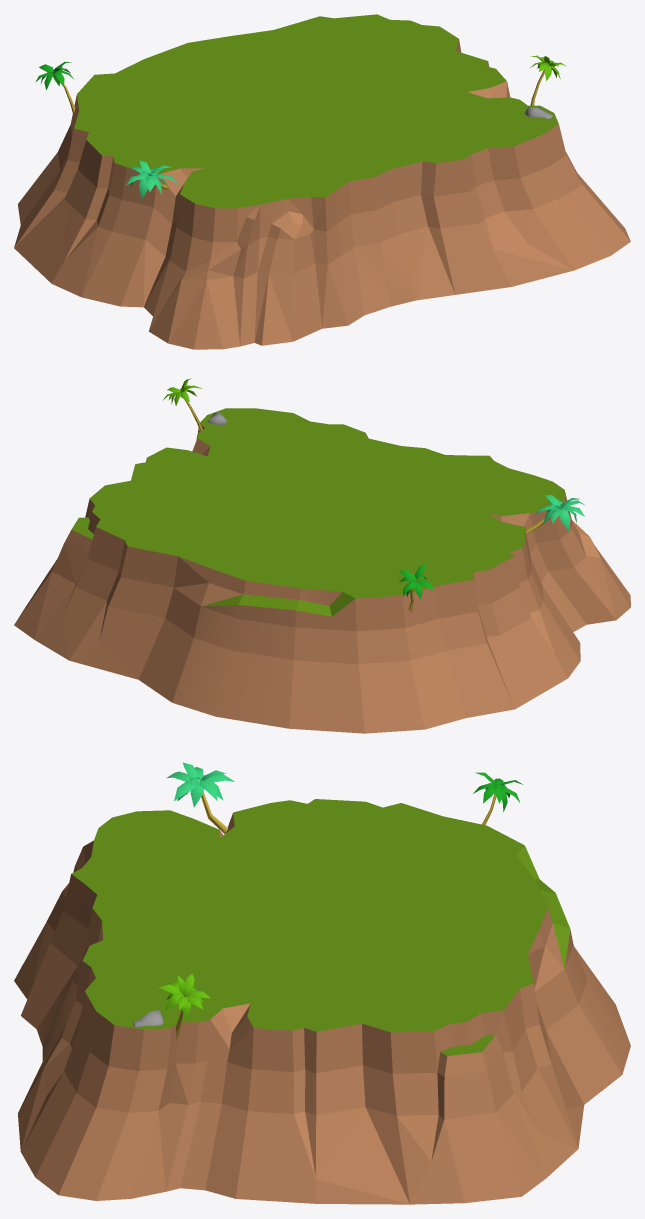
The model's file is Islands_18.fbx.
The picture shows the model from 3 angles, top to bottom: view 1: azimuth 30°, elevation 25°; view 2: azimuth 150°, elevation 25°; view 3: azimuth 270°, elevation 25°; orthographic projection. The views are drawn at different scales.
Visible parts, largest first — view 1: Islands_18; view 2: Islands_18; view 3: Islands_18.
Boxes of the visible parts, x1,y1,x2,y2 form: Islands_18: [14, 14, 630, 349]; Islands_18: [14, 378, 630, 733]; Islands_18: [14, 762, 630, 1204].
Size of the model in its own units: 8365 by 2593 by 7340.
